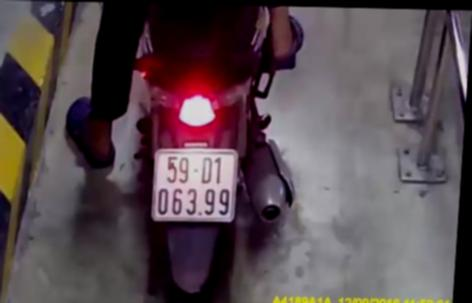License_Plate: (142, 144, 244, 227)
